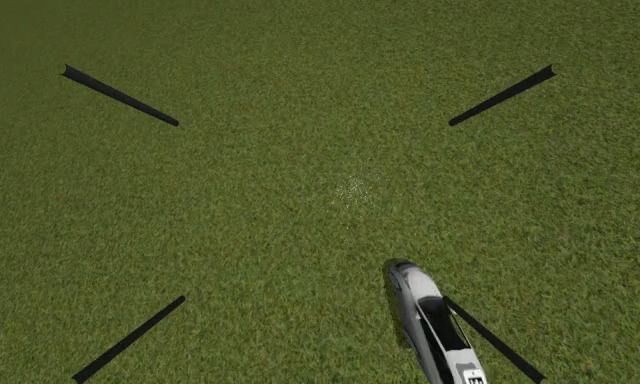Car: (385, 259, 489, 384)
